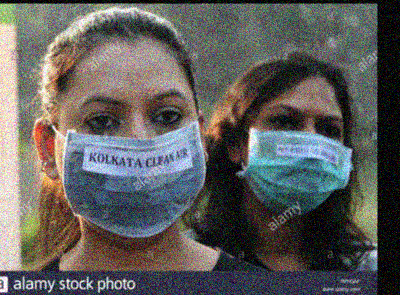with_mask: (55, 83, 206, 239), (243, 99, 351, 215)
